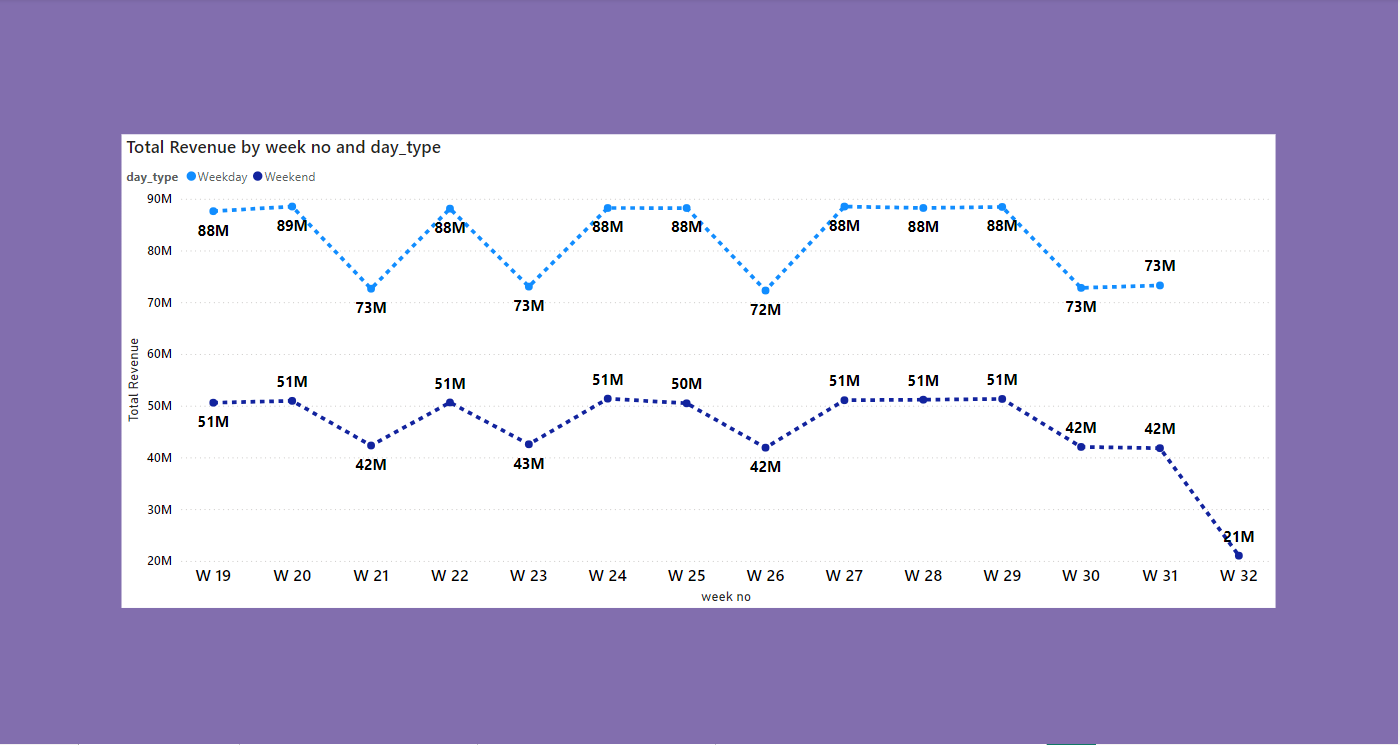

The dashboard page shown, as its layout file describes it:
{"tool":"powerbi","page":{"name":"Revenue For Day type and Weekly Trends ","canvas":[1500,800],"ordinal":3},"visuals":[{"type":"lineChart","fields":{"Category":["dim_date.week no"],"Series":["dim_date.day_type"],"Y":["fact_booking.Total Revenue"]},"box":[130.8,145.8,1237.3,508.3],"z":15000}]}

Visuals, with their boxes in screenshot pixels (x1, y1, x2, y2), scaled from the page's 1500x800 canvas onto the 1400x745 screenshot:
lineChart - dim_date.week no x dim_date.day_type: (x1=122, y1=136, x2=1277, y2=609)
